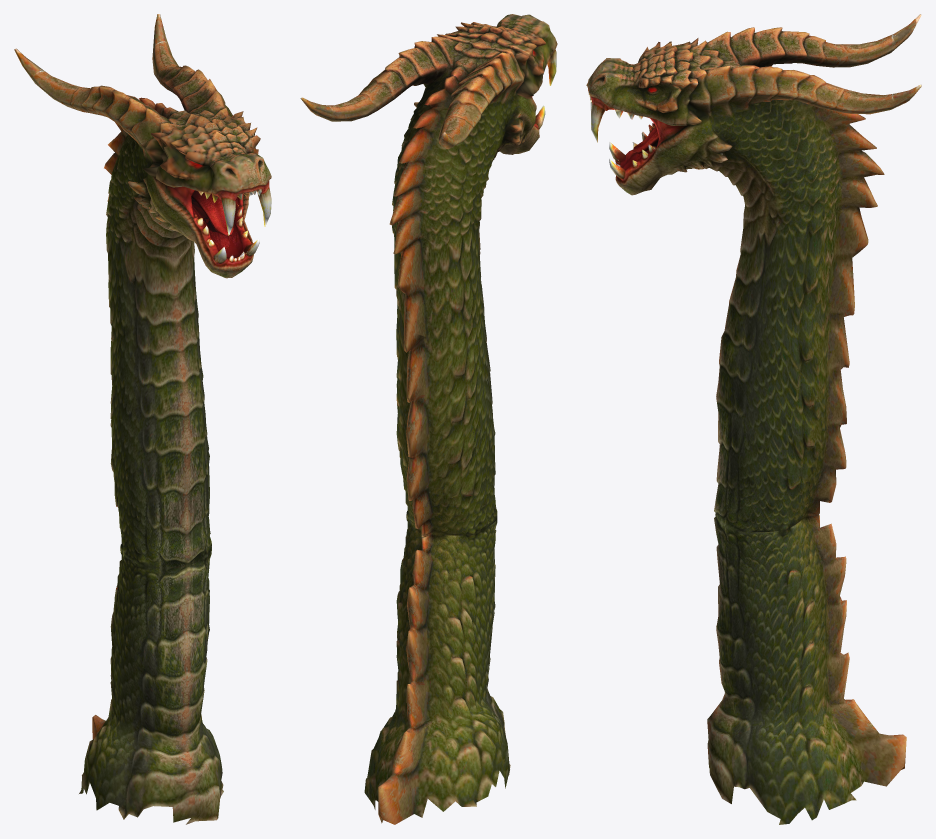
Rendered from HydraHead.glb.
The picture shows the model from 3 angles, left to right: view 1: azimuth 30°, elevation 25°; view 2: azimuth 150°, elevation 25°; view 3: azimuth 270°, elevation 25°; orthographic projection.
Visible parts, largest first — view 1: low; view 2: low; view 3: low.
Part boxes in pixels (box(x1,y1,x2,y2)): low: box(14, 14, 271, 824); low: box(300, 14, 557, 824); low: box(586, 14, 921, 824).
Size of the model in its own units: 0.9653 by 4.68 by 1.9.
1 material, 1 textured.
